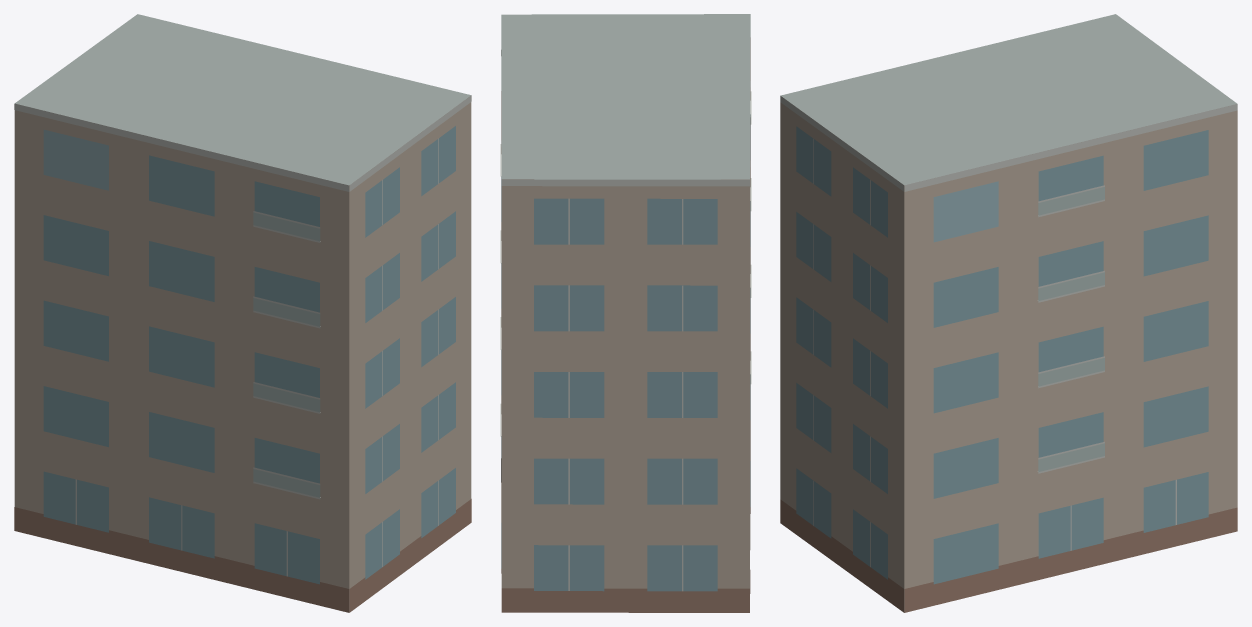
The model's file is survey-upis-32976355.glb.
3 renders of one model, left to right at view 1: azimuth 30°, elevation 25°; view 2: azimuth 150°, elevation 25°; view 3: azimuth 270°, elevation 25°, orthographic.
Parts seen in each view (by area): view 1: survey-upis-32976355.tmp; view 2: survey-upis-32976355.tmp; view 3: survey-upis-32976355.tmp.
Part boxes in pixels (x1,y1,x2,y2): survey-upis-32976355.tmp: [14, 14, 471, 612]; survey-upis-32976355.tmp: [500, 14, 751, 612]; survey-upis-32976355.tmp: [780, 14, 1237, 612].
Bounding box in the file's own units: 13.59 × 15.8 × 15.33.
